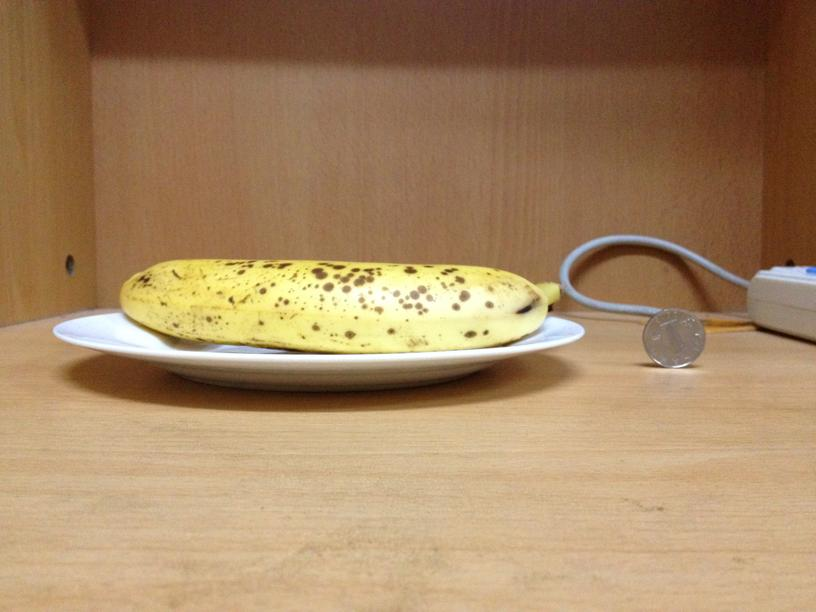banana: (116, 258, 561, 353)
coin: (642, 308, 706, 368)
